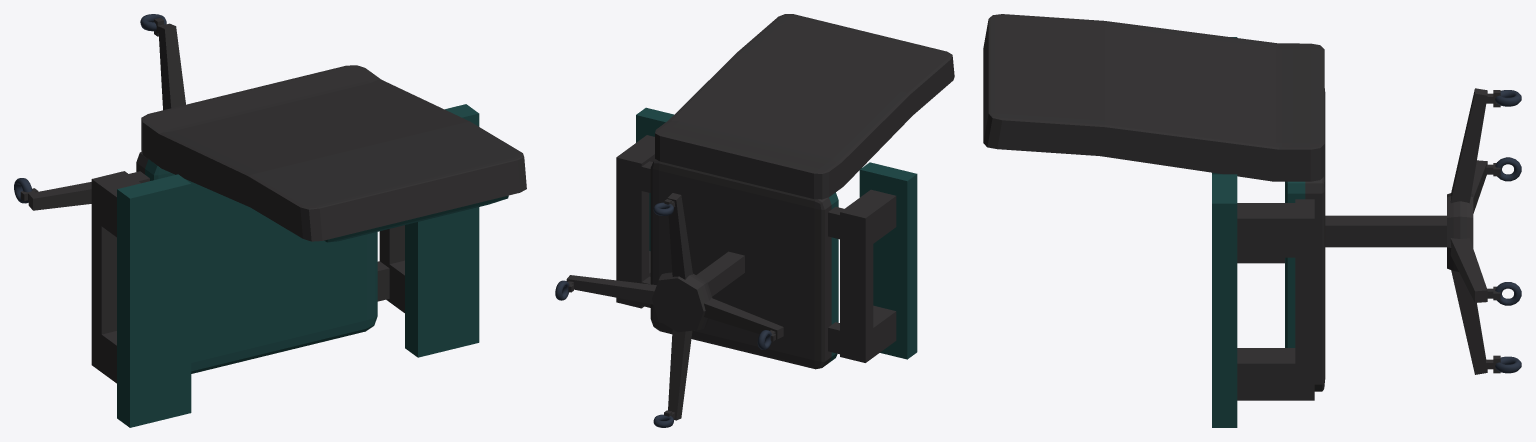
Rendered from CubicleChair.fbx.
3 renders of one model, left to right at view 1: azimuth 30°, elevation 25°; view 2: azimuth 150°, elevation 25°; view 3: azimuth 270°, elevation 25°, orthographic. The views are drawn at different scales.
Visible parts, largest first — view 1: ChariUpper, ChairHandRight, ChairBottom, Chairleg003, Chairleg000; view 2: ChariUpper, ChairBottom, ChairHandRight, DeskBottom, Chairleg001, Chairleg002, Chairleg003, Chairleg000; view 3: ChariUpper, ChairHandRight, DeskBottom, ChairBottom, Chairleg003, Chairleg001, Chairleg002, Chairleg000.
Boxes of the visible parts, box(x1,y1,x2,y2) form: ChariUpper: box(141, 65, 526, 242); ChairHandRight: box(91, 104, 479, 427); ChairBottom: box(136, 151, 377, 373); Chairleg003: box(154, 17, 185, 110); Chairleg000: box(20, 182, 91, 210); ChariUpper: box(655, 14, 954, 199); ChairBottom: box(650, 159, 838, 369); ChairHandRight: box(616, 107, 917, 362); DeskBottom: box(652, 251, 744, 332); Chairleg001: box(664, 329, 692, 420); Chairleg002: box(566, 275, 656, 304); Chairleg003: box(664, 193, 692, 279); Chairleg000: box(704, 298, 783, 341); ChariUpper: box(983, 14, 1324, 181); ChairHandRight: box(1212, 37, 1314, 427); DeskBottom: box(1325, 193, 1473, 271); ChairBottom: box(1285, 88, 1325, 391); Chairleg003: box(1450, 88, 1500, 203); Chairleg001: box(1451, 270, 1500, 374); Chairleg002: box(1450, 238, 1500, 302); Chairleg000: box(1471, 160, 1500, 213).
Bounding box in the file's own units: 53477 × 45789 × 72981.
Materials: 4 (4 with a texture image).
